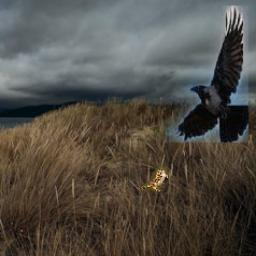Crow: (167, 7, 250, 144)
Sparrow: (138, 167, 168, 191)
